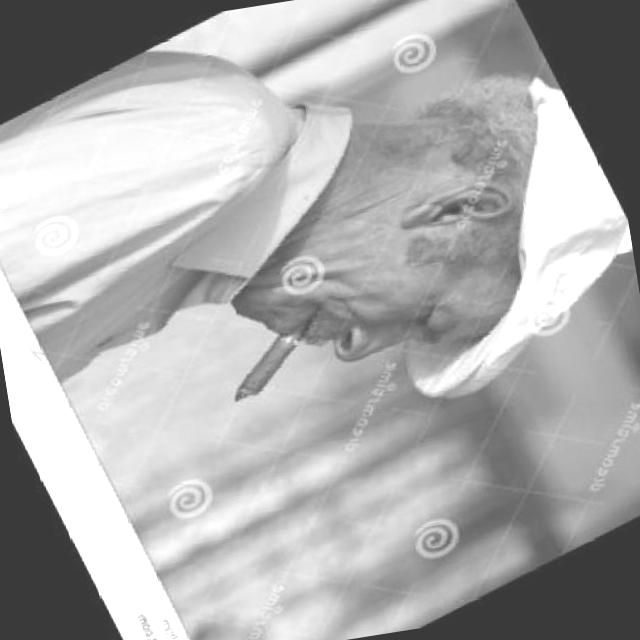smoke: (209, 314, 331, 412)
